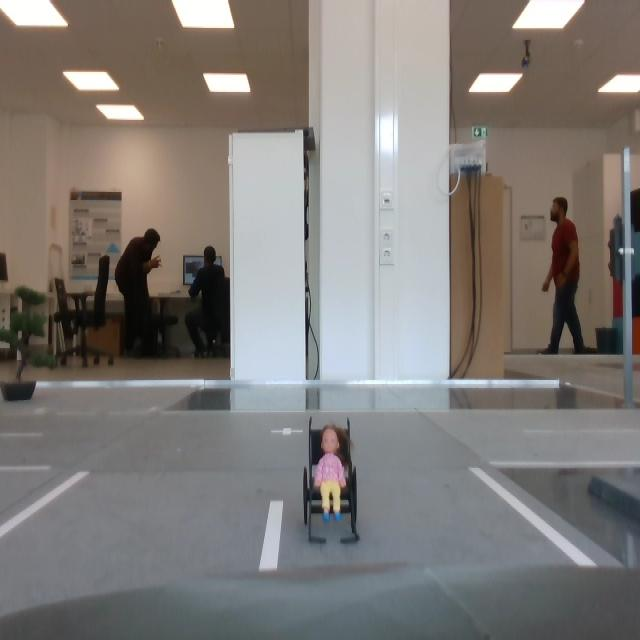person: (314, 425, 350, 522)
potted plant: (1, 285, 55, 401)
